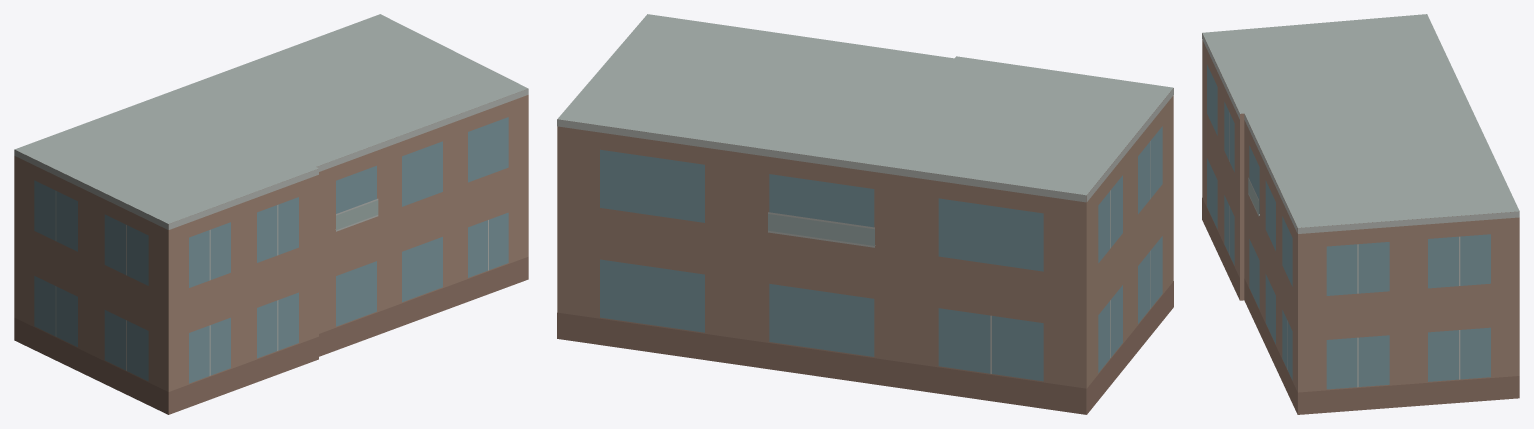
The model's file is survey-upis-32800100.glb.
3 views of the same model, side by side, from view 1: azimuth 30°, elevation 25°; view 2: azimuth 150°, elevation 25°; view 3: azimuth 270°, elevation 25° (orthographic). The views are drawn at different scales.
Visible parts, largest first — view 1: survey-upis-32800100.tmp; view 2: survey-upis-32800100.tmp; view 3: survey-upis-32800100.tmp.
Part boxes in pixels (<box>): survey-upis-32800100.tmp: <box>14,14,528,414</box>; survey-upis-32800100.tmp: <box>557,14,1173,414</box>; survey-upis-32800100.tmp: <box>1202,14,1519,414</box>.
Bounding box in the file's own units: 18.43 × 7.5 × 11.56.
